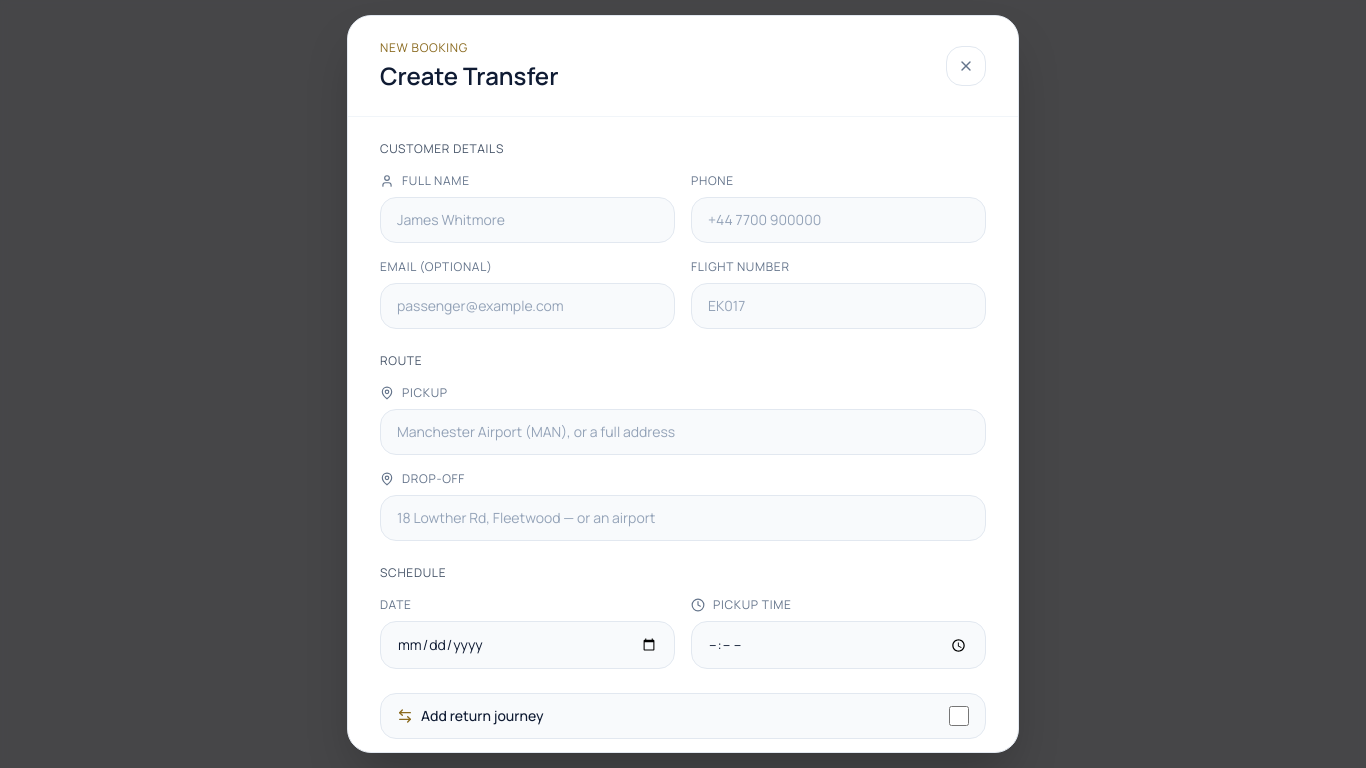
Test: BookingModal — suggested price › suggests the one-way price when a listed place is typed
Type "Manchester Airport" into the field with placeholder "Manchester Airport (MAN), or a full address" at (683, 432), box [380,409,986,455]
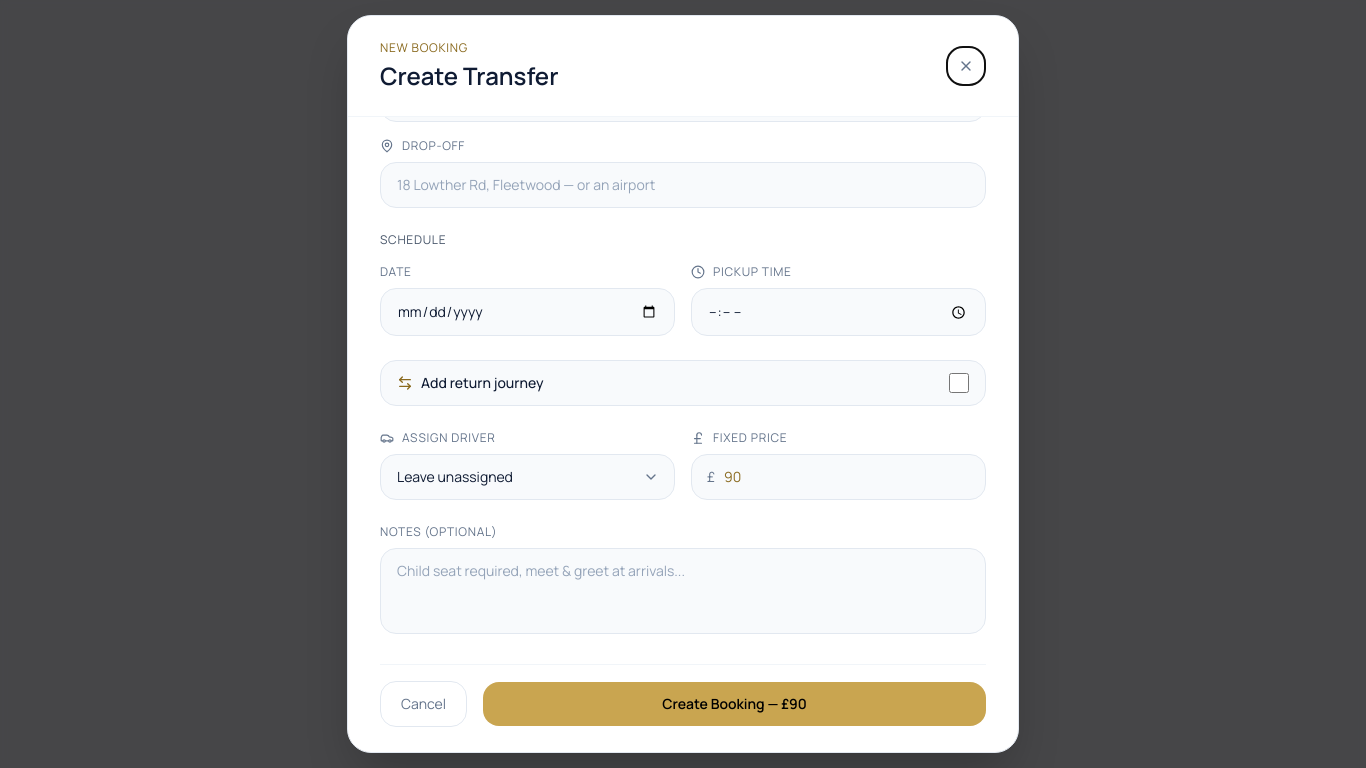
Result: the number field with placeholder "0" holds "90" at [691,454,986,500]
